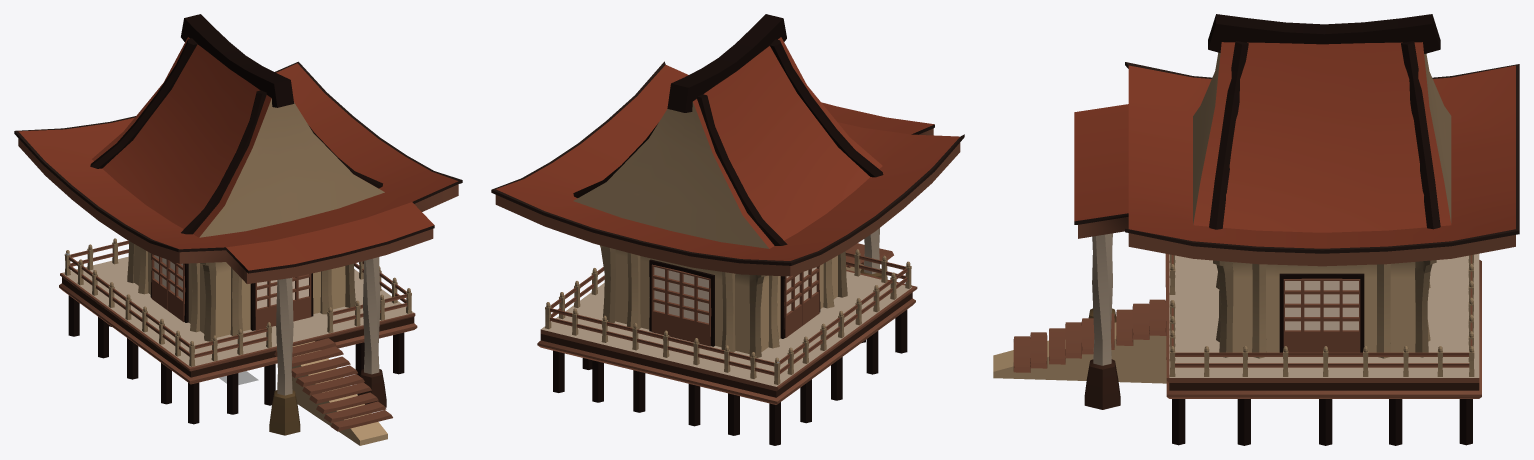
The model's file is templo.fbx.
3 views of the same model, side by side, from view 1: azimuth 30°, elevation 25°; view 2: azimuth 150°, elevation 25°; view 3: azimuth 270°, elevation 25° (orthographic). The views are drawn at different scales.
Visible parts, largest first — view 1: pasted__polySurface387, pasted__polySurface355, polySurface1, pCube5, pasted__polySurface390, polySurface119, pasted__polySurface389, escada_suporte, pCylinder20, pCylinder19, polySurface208, polySurface211 (+24 smaller); view 2: pasted__polySurface387, pasted__polySurface355, polySurface1, pCube5, polySurface119, polySurface92, polySurface91, pCylinder19, pCylinder20, polySurface210, polySurface95, coluna_detalhe7 (+21 smaller); view 3: pasted__polySurface387, pasted__polySurface355, polySurface1, pCube5, escada_suporte, pasted__polySurface389, polySurface19, polySurface18, pCylinder22, pCylinder21, polySurface119, polySurface90 (+18 smaller).
Boxes of the visible parts, x1,y1,x2,y2 form: pasted__polySurface387: (14,37,462,283); pasted__polySurface355: (59,256,417,384); polySurface1: (134,244,345,337); pCube5: (181,14,294,107); pasted__polySurface390: (269,278,300,435); polySurface119: (64,238,411,366); pasted__polySurface389: (357,257,386,407); escada_suporte: (292,341,387,445); pCylinder20: (90,38,197,168); pCylinder19: (181,90,266,234); polySurface208: (255,280,277,330); polySurface211: (167,260,185,321); pasted__polySurface387: (491,37,964,276); pasted__polySurface355: (537,269,917,404); polySurface1: (615,249,837,353); pCube5: (667,14,786,112); polySurface119: (545,249,911,384); polySurface92: (681,271,711,346); polySurface91: (651,264,681,339); pCylinder19: (770,39,883,177); pCylinder20: (697,94,787,245); polySurface210: (784,272,802,337); polySurface95: (721,272,735,352); coluna_detalhe7: (749,275,766,357); pasted__polySurface387: (1074,42,1519,266); pasted__polySurface355: (1165,253,1481,398); polySurface1: (1232,262,1415,352); pCube5: (1208,14,1440,53); escada_suporte: (993,322,1166,383); pasted__polySurface389: (1084,233,1120,409); polySurface19: (1322,278,1360,352); polySurface18: (1283,278,1321,352); pCylinder22: (1401,41,1440,229); pCylinder21: (1209,41,1248,229); polySurface119: (1169,254,1474,376); polySurface90: (1175,363,1469,367).
Size of the model in its own units: 10.18 by 10.37 by 13.58.
